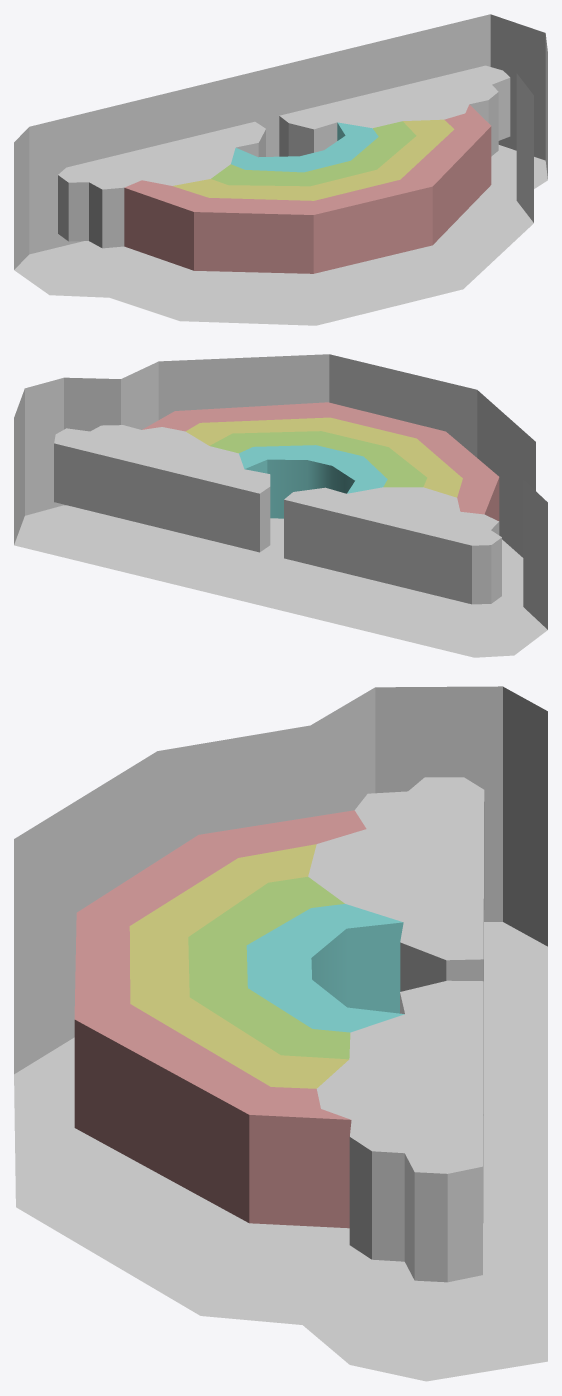
The model's file is RainbowRainbow_2.glb.
The picture shows the model from 3 angles, top to bottom: view 1: azimuth 30°, elevation 25°; view 2: azimuth 150°, elevation 25°; view 3: azimuth 270°, elevation 25°; orthographic projection. The views are drawn at different scales.
Visible parts, largest first — view 1: RainbowRainbow; view 2: RainbowRainbow; view 3: RainbowRainbow.
Part boxes in pixels (left/top/right/bottom): RainbowRainbow: left=14, top=14, right=547, bottom=325; RainbowRainbow: left=14, top=354, right=547, bottom=657; RainbowRainbow: left=14, top=686, right=547, bottom=1381.
Bounding box in the file's own units: 0.3485 × 0.0832 × 0.1711.
